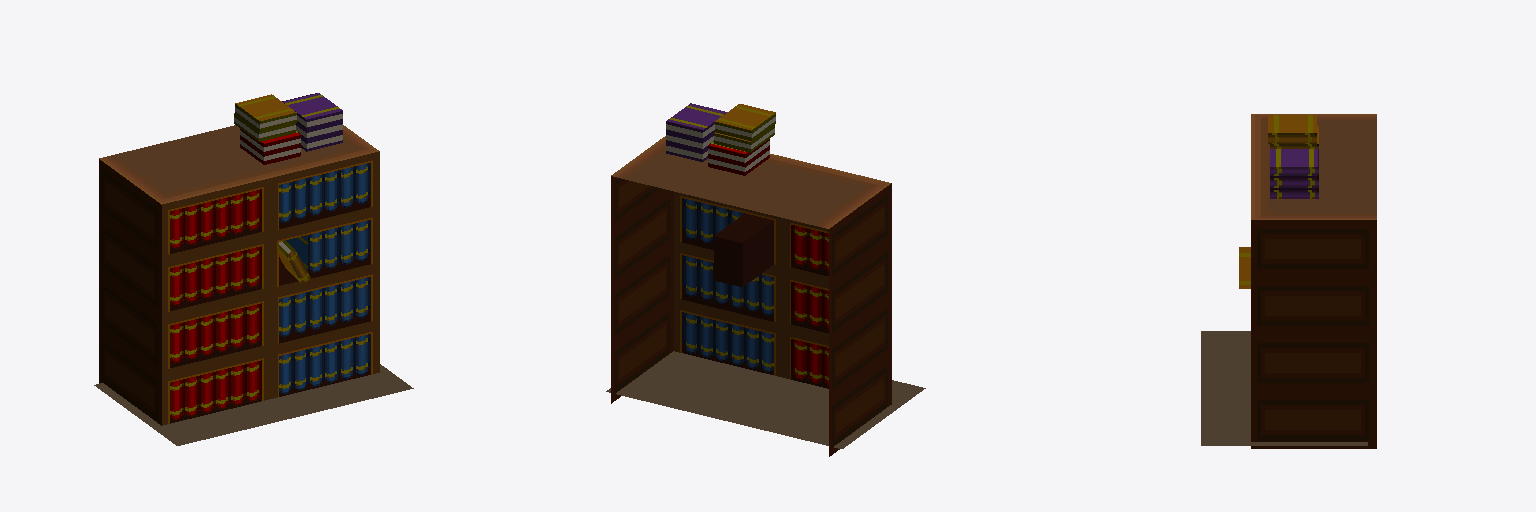
3 renders of one model, left to right at view 1: azimuth 30°, elevation 25°; view 2: azimuth 150°, elevation 25°; view 3: azimuth 270°, elevation 25°, orthographic.
Parts seen in each view (by area): view 1: polygon0.003, polygon3.001, polygon2.001, polygon6.001, polygon5.001, polygon8.001, polygon1.003, polygon11.001, polygon4.001, polygon12.001, polygon10.001, polygon14.001; view 2: polygon3.001, polygon2.001, polygon6.001, polygon0.003, polygon1.003, polygon5.001, polygon8.001, polygon4.001, polygon11.001, polygon12.001, polygon10.001; view 3: polygon3.001, polygon6.001, polygon4.001, polygon11.001.
Part boxes in pixels (x1,y1,x2,y2): polygon0.003: (162, 178, 270, 425); polygon3.001: (99, 125, 378, 425); polygon2.001: (271, 151, 379, 398); polygon6.001: (94, 364, 413, 445); polygon5.001: (284, 103, 342, 151); polygon8.001: (240, 129, 300, 164); polygon1.003: (271, 226, 307, 291); polygon11.001: (235, 94, 296, 120); polygon4.001: (282, 93, 342, 119); polygon12.001: (235, 104, 296, 131); polygon10.001: (234, 114, 295, 141); polygon14.001: (279, 249, 310, 284); polygon3.001: (611, 136, 891, 456); polygon2.001: (674, 192, 782, 377); polygon6.001: (606, 351, 925, 448); polygon0.003: (783, 218, 828, 388); polygon1.003: (714, 209, 782, 286); polygon5.001: (666, 114, 724, 161); polygon8.001: (708, 139, 769, 175); polygon4.001: (667, 103, 726, 129); polygon11.001: (715, 104, 775, 130); polygon12.001: (715, 113, 775, 140); polygon10.001: (714, 125, 774, 152); polygon3.001: (1251, 114, 1376, 448); polygon6.001: (1201, 331, 1367, 445); polygon4.001: (1270, 149, 1318, 198); polygon11.001: (1268, 115, 1316, 143).
Size of the model in its own units: 3.02 by 2.95 by 1.85.
Materials: 7 (7 with a texture image).